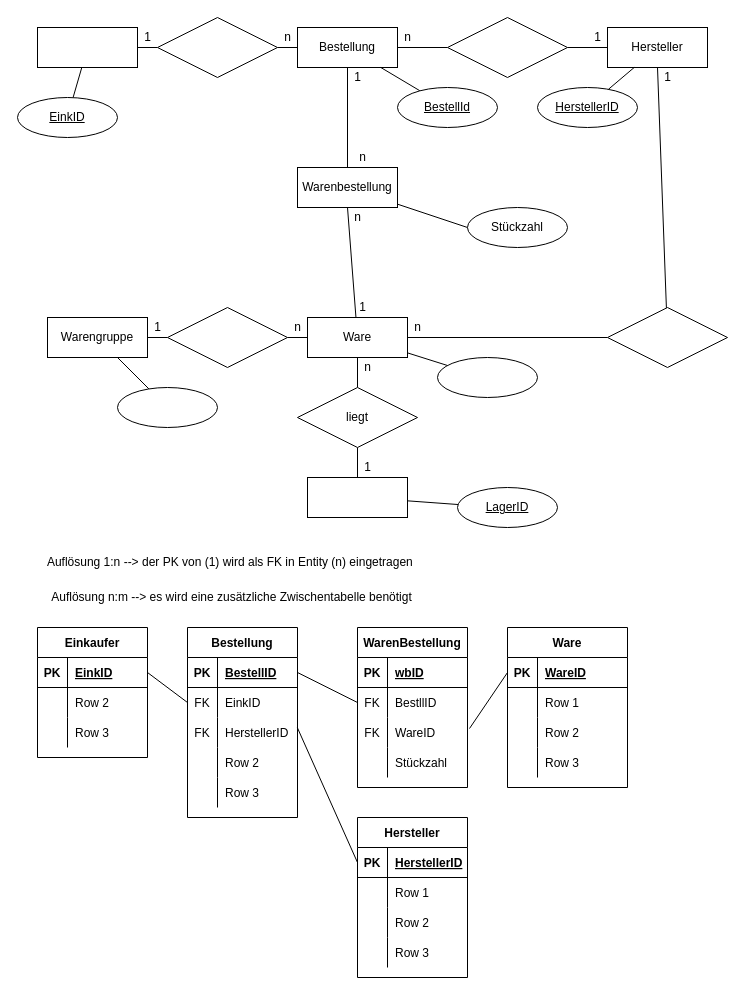
Image size: 745x995. Some labels were removed from this diagram. Each missing label, with the centre of its shape:
"bei" goes at (507,47).
"Einkäufer" goes at (87,47).
"führt aus" goes at (217,47).
"hat" goes at (227,337).
"Lagerort" goes at (357,497).
"produziert" goes at (667,337).
"WarenGrId" goes at (167,407).
"WarenID" goes at (487,377).
